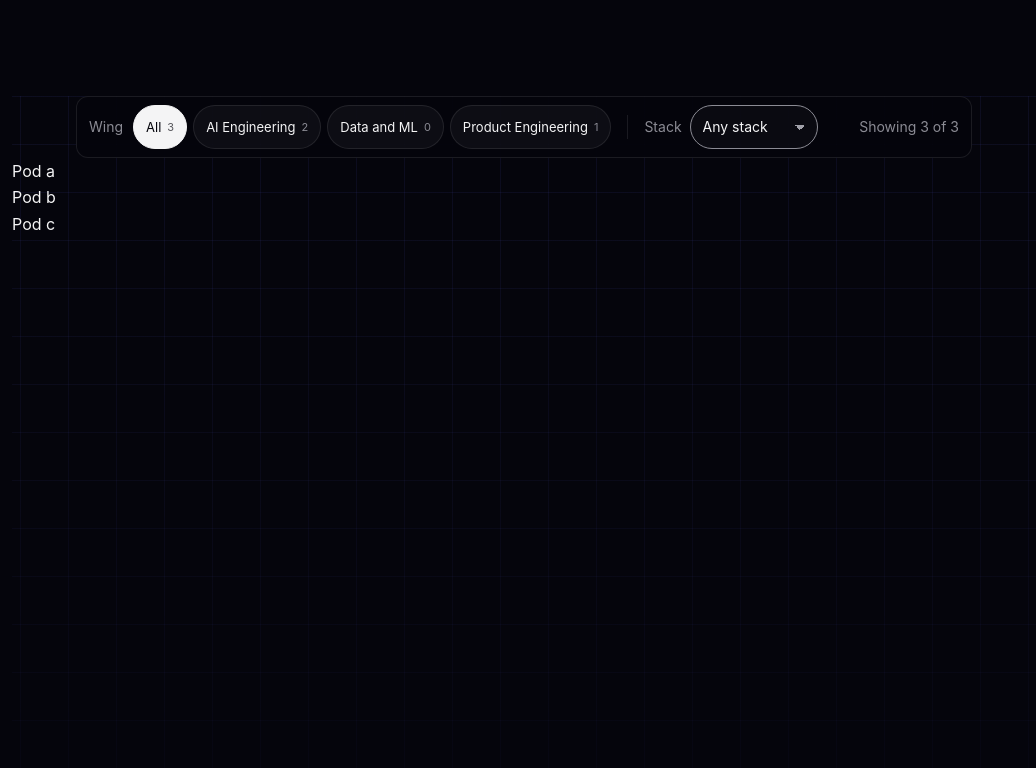
Test: WorkIndex › filters by wing, then by stack, and keeps other params in the URL
This screenshot has width=1036, height=768.
Expected: the message reads "Showing 3 of 3", [859,118,959,135]
Click the button "AI Engineering 2". click: {"x": 257, "y": 127}
box: [193,105,321,149]
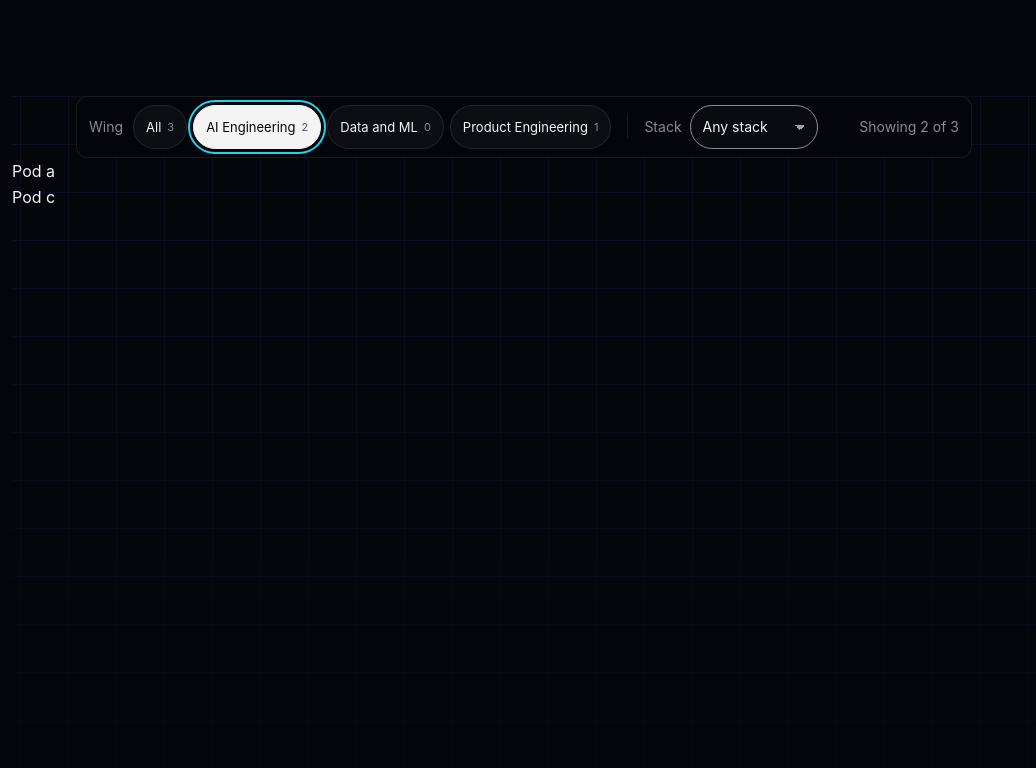
Result: the list item "Pod b" is gone
Result: the message reads "Showing 2 of 3" at [859,118,959,135]
Select "Node.js (2)" in the dropdown labelled "Stack". click: {"x": 754, "y": 127}
box: [690,105,818,149]
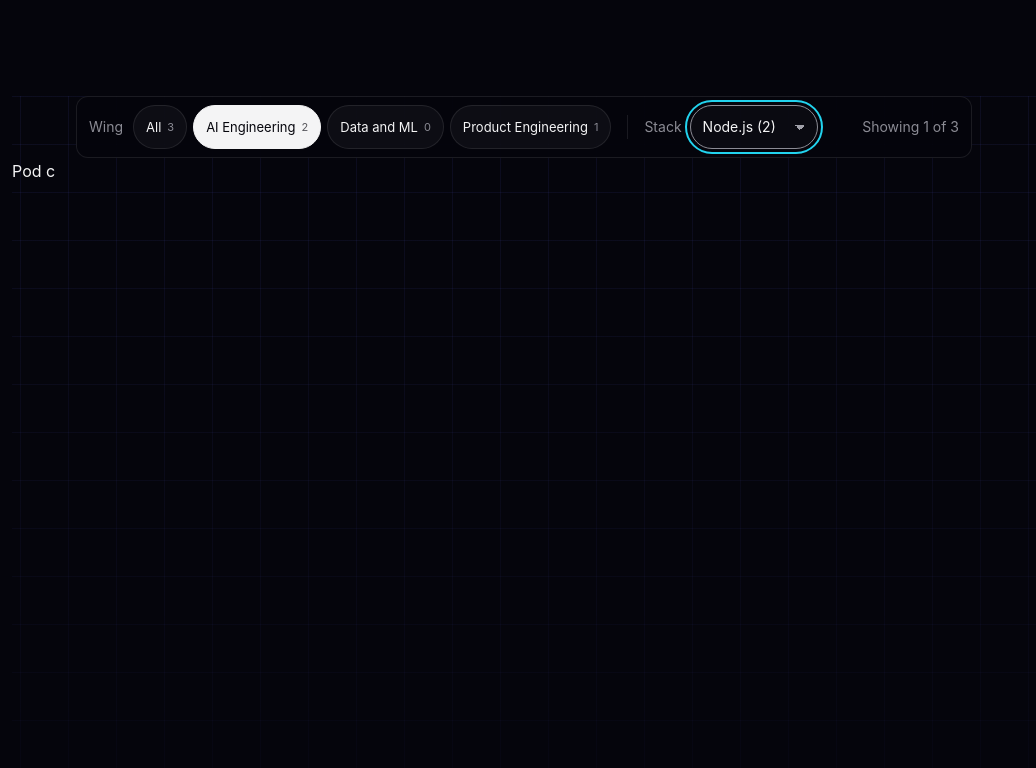
Expected: the list item "Pod c" is shown, [12,161,55,181]
Result: the list item "Pod a" is gone
